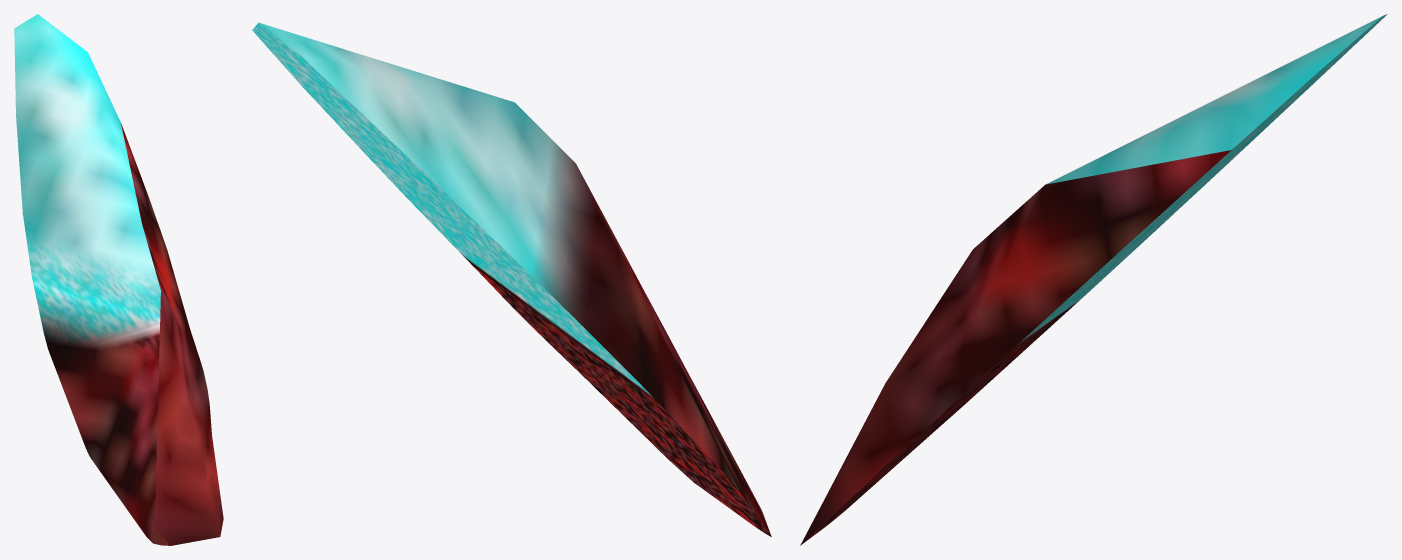
3 views of the same model, side by side, from view 1: azimuth 30°, elevation 25°; view 2: azimuth 150°, elevation 25°; view 3: azimuth 270°, elevation 25° (orthographic). The views are drawn at different scales.
Parts seen in each view (by area): view 1: SM_VFX_Withered_Spike_12_LOD0; view 2: SM_VFX_Withered_Spike_12_LOD0; view 3: SM_VFX_Withered_Spike_12_LOD0.
Boxes of the visible parts, x1=… form: SM_VFX_Withered_Spike_12_LOD0: x1=14, y1=14, x2=223, y2=545; SM_VFX_Withered_Spike_12_LOD0: x1=252, y1=22, x2=771, y2=536; SM_VFX_Withered_Spike_12_LOD0: x1=800, y1=14, x2=1387, y2=545.
Bounding box in the file's own units: 0.4815 × 1.4 × 1.35.
Materials: 1 (1 with a texture image).
